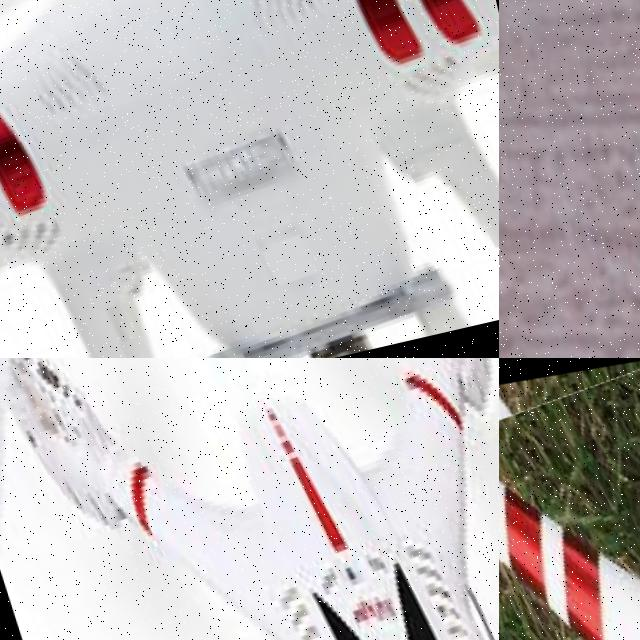0: (499, 358, 640, 640)
drone: (0, 0, 499, 358), (0, 358, 499, 640)
